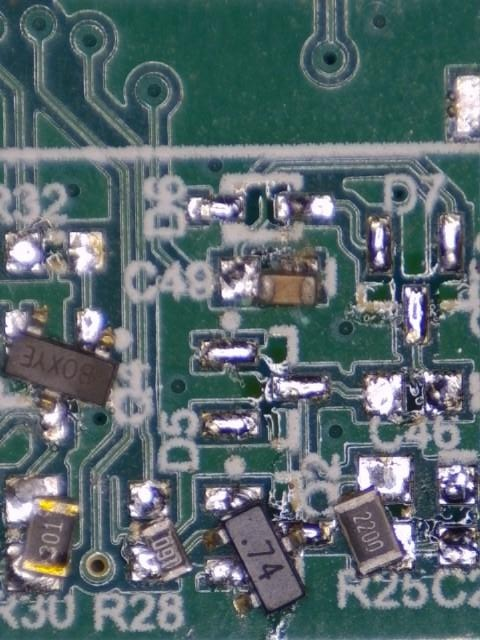pcb_defect: (201, 486, 334, 616), (3, 305, 118, 442), (331, 456, 414, 576), (4, 476, 79, 591), (130, 481, 195, 583), (219, 255, 318, 308)
